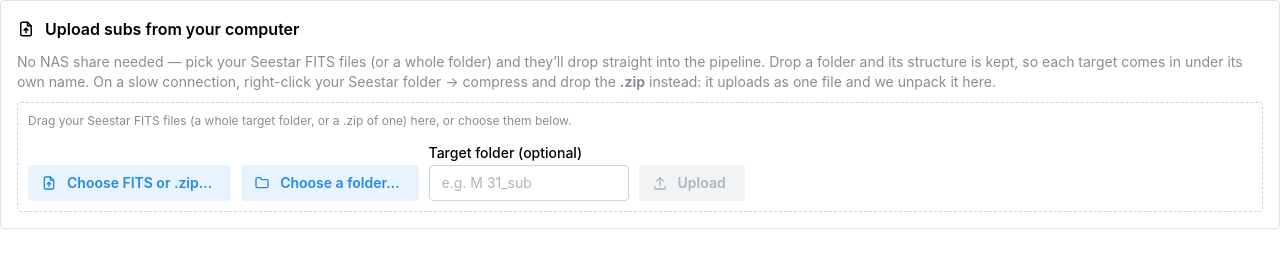
it: the destination box knows which targets you already have › offers the folders you already have as suggestions
The width and height of the screenshot is (1280, 273).
Type "M" into the field with test id "upload-target-folder".
click(528, 183); type("M")  # box [428,165,628,201]
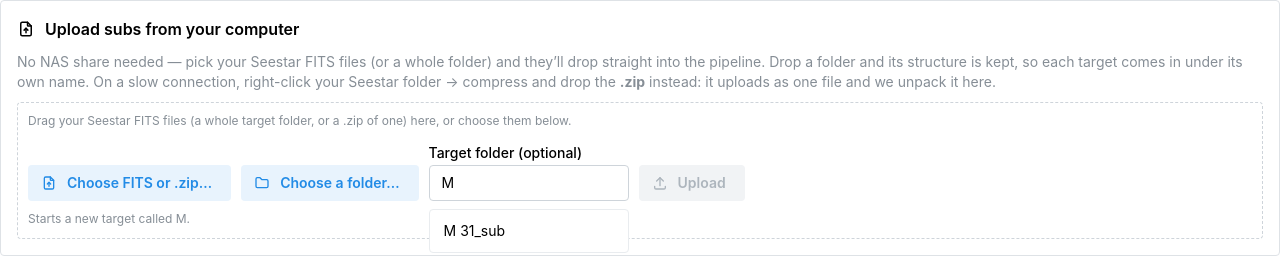
Check: the text "M 31_sub" is shown, box [444,220,505,242]
